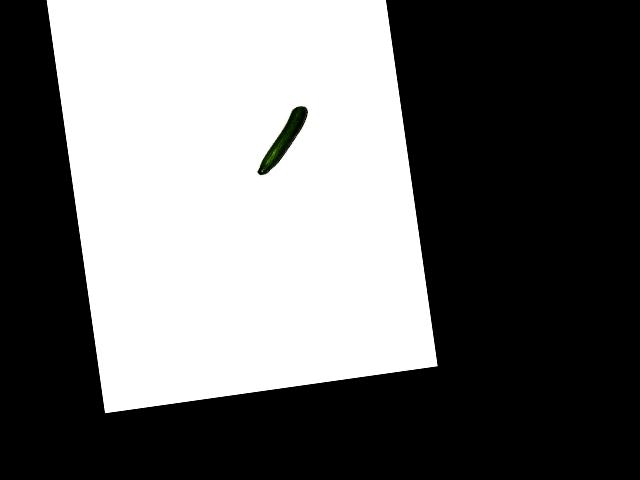cucumber: (249, 105, 315, 175)
